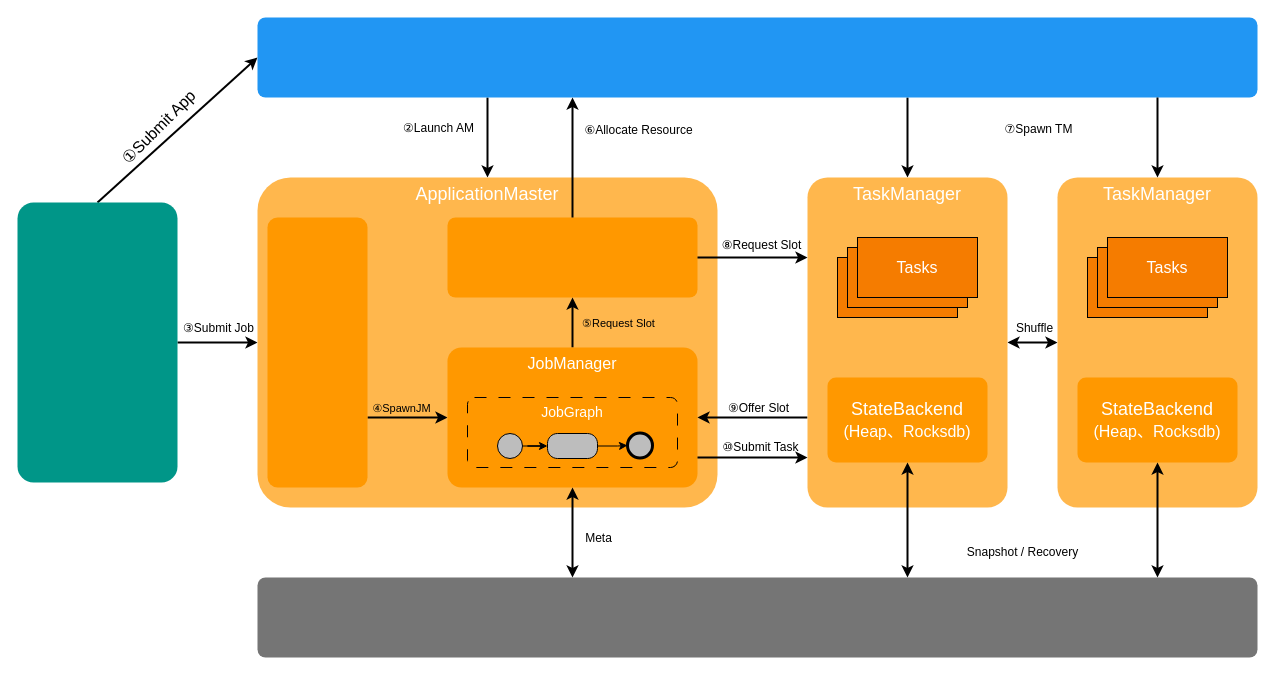
Image size: 1274x674. Some labels were removed from this diagram. The shapes that lost their labels are listed below. From the top down, each one's centre as x and y in pixels, then its label:
At point (757, 57): "Cluster Management (Standalone、YARN、Mesos、K8S)".
At point (572, 257): "ResourceManager".
At point (97, 342): "Client".
At point (317, 352): "Dispatcher".
At point (757, 617): "Storage (Zookeeper、FileSystem、Rocksdb)".
